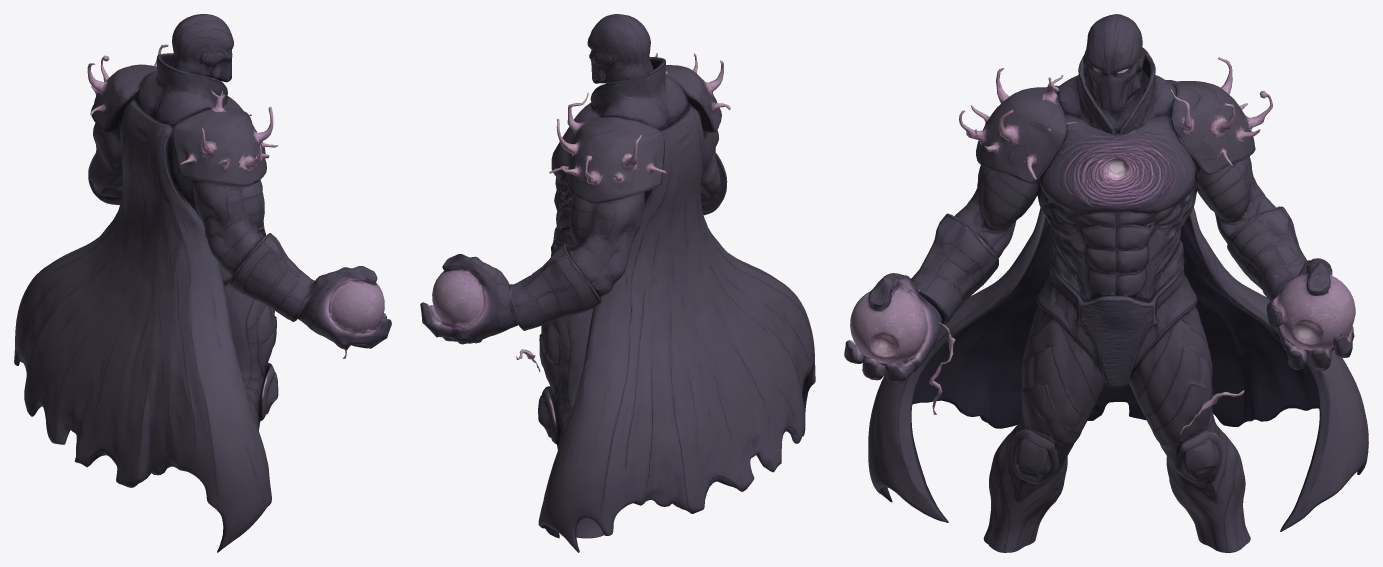
Rendered from voidmaster.glb.
The picture shows the model from 3 angles, left to right: view 1: azimuth 30°, elevation 25°; view 2: azimuth 150°, elevation 25°; view 3: azimuth 270°, elevation 25°; orthographic projection. The views are drawn at different scales.
Parts seen in each view (by area): view 1: tripo_node_ce9d995f-25a6-46d5-b063-76da0d5bf1b3; view 2: tripo_node_ce9d995f-25a6-46d5-b063-76da0d5bf1b3; view 3: tripo_node_ce9d995f-25a6-46d5-b063-76da0d5bf1b3.
Boxes of the visible parts, x1,y1,x2,y2 form: tripo_node_ce9d995f-25a6-46d5-b063-76da0d5bf1b3: (14,14,391,552); tripo_node_ce9d995f-25a6-46d5-b063-76da0d5bf1b3: (420,14,815,552); tripo_node_ce9d995f-25a6-46d5-b063-76da0d5bf1b3: (844,14,1368,552).
Size of the model in its own units: 0.5452 by 1 by 0.8963.
1 material, 1 textured.
